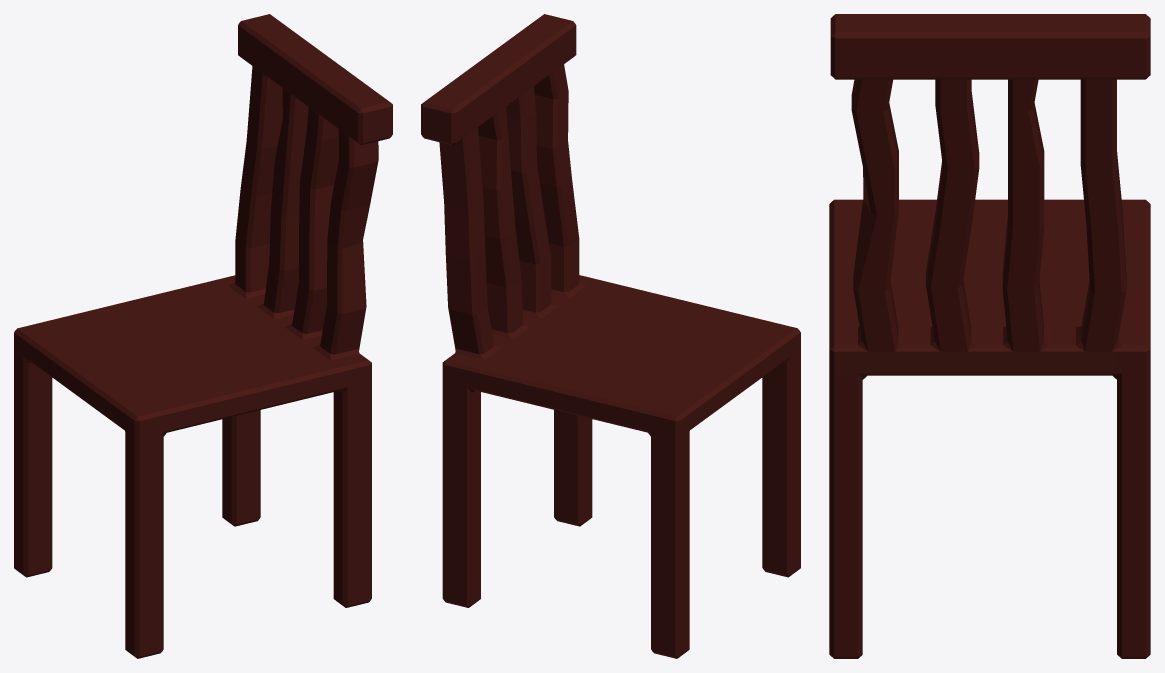
File: Chair.fbx
3 views of the same model, side by side, from view 1: azimuth 30°, elevation 25°; view 2: azimuth 150°, elevation 25°; view 3: azimuth 270°, elevation 25° (orthographic). The views are drawn at different scales.
Parts seen in each view (by area): view 1: Cube; view 2: Cube; view 3: Cube.
Part boxes in pixels (box(x1,y1,x2,y2)): Cube: box(14, 14, 392, 658); Cube: box(421, 14, 800, 658); Cube: box(829, 14, 1150, 658).
Size of the model in its own units: 162 by 296 by 134.
